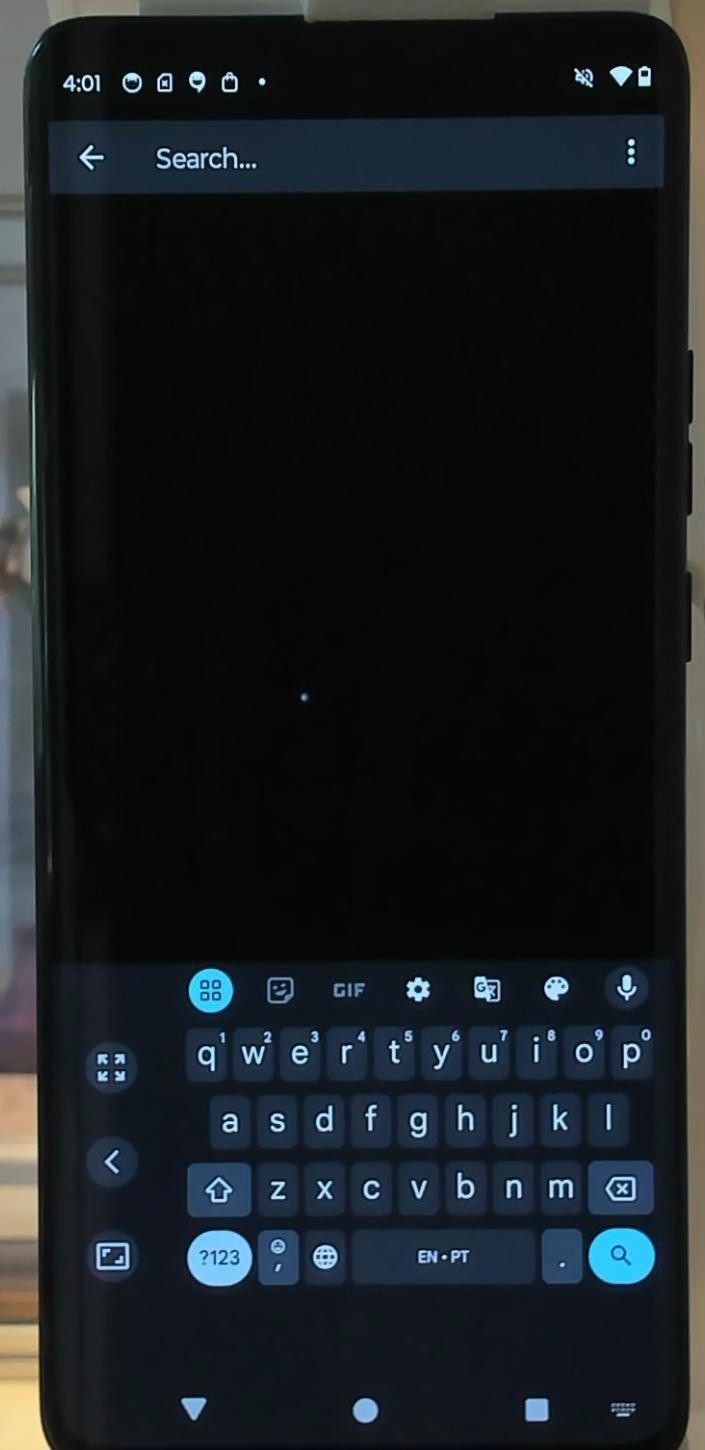TextKeyboard: (168, 1023, 659, 1301)
